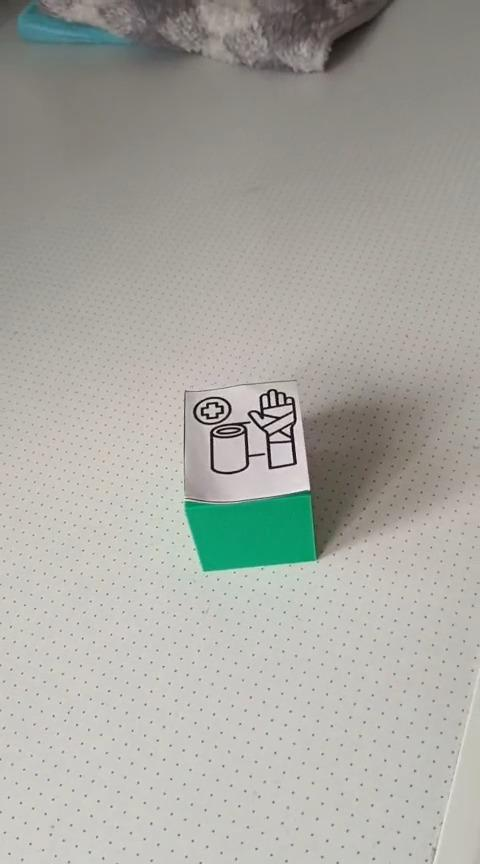Bandages: (182, 377, 319, 572)
